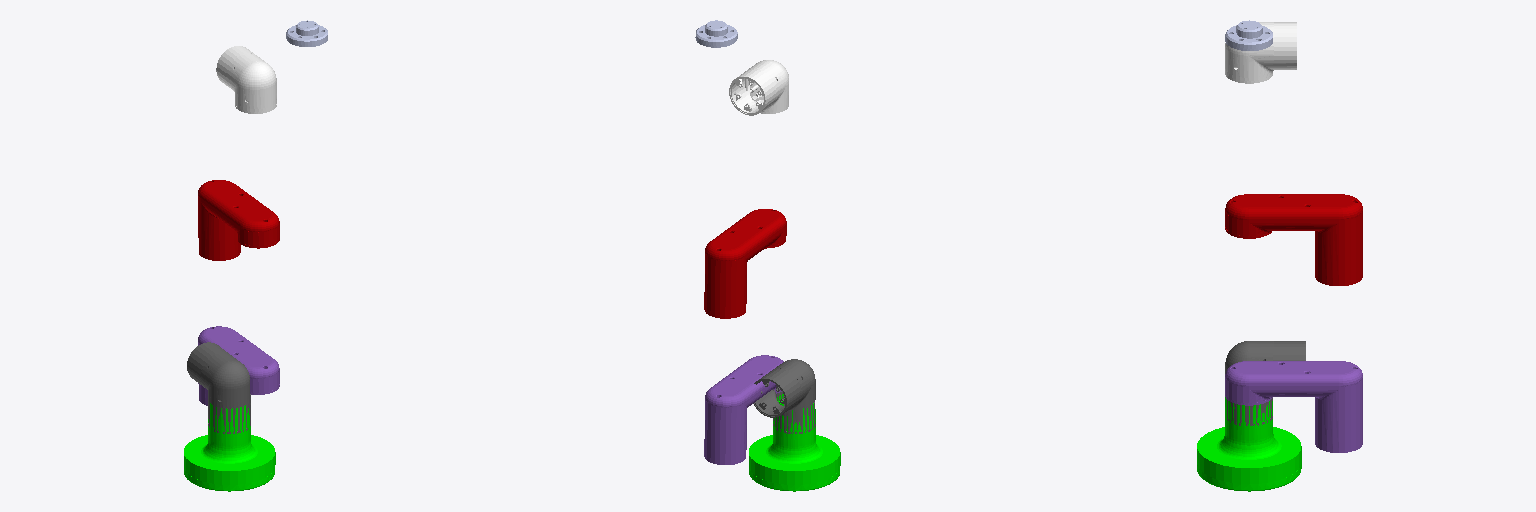
robot.urdf — robot_arm:
<?xml version="1.0" encoding="utf-8" ?>
<!-- This URDF was automatically created by SolidWorks to URDF Exporter! Originally created by Stephen Brawner (brawner@gmail.com) 
     Commit Version: 1.6.0-4-g7f85cfe  Build Version: 1.6.7995.38578
     For more information, please see http://wiki.ros.org/sw_urdf_exporter -->
<robot name="robot_arm">
    <link name="base_link">
        <inertial>
            <origin xyz="-0.000379135468760089 0.00044051065817062 0.025023985175857" rpy="0 0 0" />
            <mass value="0.195490498054091" />
            <inertia ixx="0.000197098942378015" ixy="1.73544380326031E-08" ixz="-1.8002259724736E-07" iyy="0.00020115978920217" iyz="-2.1699799937825E-06" izz="0.000316589137651227" />
        </inertial>
        <visual>
            <origin xyz="0 0 0" rpy="0 0 0" />
            <geometry>
                <mesh filename="package://robot_arm/meshes/base_link.STL" />
            </geometry>
            <material name="">
                <color rgba="0 1 0 1" />
            </material>
        </visual>
        <collision>
            <origin xyz="0 0 0" rpy="0 0 0" />
            <geometry>
                <mesh filename="package://robot_arm/meshes/base_link.STL" />
            </geometry>
        </collision>
    </link>
    <link name="Link_1">
        <inertial>
            <origin xyz="0.00458971266849917 -3.20046849174062E-05 0.0425574520928825" rpy="0 0 0" />
            <mass value="0.31284736542166" />
            <inertia ixx="0.000154646806877315" ixy="4.09236809944852E-09" ixz="-8.1373895526861E-06" iyy="0.000137640315457541" iyz="-1.10068804835806E-08" izz="0.000167440749331112" />
        </inertial>
        <visual>
            <origin xyz="0 0 0" rpy="0 0 0" />
            <geometry>
                <mesh filename="package://robot_arm/meshes/Link_1.STL" />
            </geometry>
            <material name="">
                <color rgba="0.43921568627451 0.43921568627451 0.43921568627451 1" />
            </material>
        </visual>
        <collision>
            <origin xyz="0 0 0" rpy="0 0 0" />
            <geometry>
                <mesh filename="package://robot_arm/meshes/Link_1.STL" />
            </geometry>
        </collision>
    </link>
    <joint name="joint_1" type="revolute">
        <origin xyz="0 0 0.063" rpy="0 0 0" />
        <parent link="base_link" />
        <child link="Link_1" />
        <axis xyz="0 0 -1" />
        <limit lower="-3.14" upper="3.14" effort="100" velocity="100" />
    </joint>
    <link name="Link_2">
        <inertial>
            <origin xyz="0.0437291888718274 -3.17241634150665E-05 0.121342621403178" rpy="0 0 0" />
            <mass value="0.587907106128444" />
            <inertia ixx="0.000432111071621861" ixy="3.77302870663473E-09" ixz="-5.21839747889797E-10" iyy="0.000377843479563513" iyz="-1.33160548801769E-08" izz="0.000325262257620724" />
        </inertial>
        <visual>
            <origin xyz="0 0 0" rpy="0 0 0" />
            <geometry>
                <mesh filename="package://robot_arm/meshes/Link_2.STL" />
            </geometry>
            <material name="">
                <color rgba="0.576470588235294 0.396078431372549 0.749019607843137 1" />
            </material>
        </visual>
        <collision>
            <origin xyz="0 0 0" rpy="0 0 0" />
            <geometry>
                <mesh filename="package://robot_arm/meshes/Link_2.STL" />
            </geometry>
        </collision>
    </link>
    <joint name="joint_2" type="revolute">
        <origin xyz="0.044 0 0.0465" rpy="0 0 0" />
        <parent link="Link_1" />
        <child link="Link_2" />
        <axis xyz="-1 0 0" />
        <limit lower="-3.14" upper="3.14" effort="100" velocity="100" />
    </joint>
    <link name="Link_3">
        <inertial>
            <origin xyz="-0.0342625302290131 -8.54393827617872E-07 0.130570556496791" rpy="0 0 0" />
            <mass value="0.368301492556341" />
            <inertia ixx="0.000284350975876608" ixy="1.99589868481762E-09" ixz="2.06902979779557E-06" iyy="0.000231576501898137" iyz="-3.41441474085351E-08" izz="0.00020347402203542" />
        </inertial>
        <visual>
            <origin xyz="0 0 0" rpy="0 0 0" />
            <geometry>
                <mesh filename="package://robot_arm/meshes/Link_3.STL" />
            </geometry>
            <material name="">
                <color rgba="0.749019607843137 0.0196078431372549 0.0352941176470588 1" />
            </material>
        </visual>
        <collision>
            <origin xyz="0 0 0" rpy="0 0 0" />
            <geometry>
                <mesh filename="package://robot_arm/meshes/Link_3.STL" />
            </geometry>
        </collision>
    </link>
    <joint name="joint_3" type="revolute">
        <origin xyz="0 0 0.211" rpy="0 0 0" />
        <parent link="Link_2" />
        <child link="Link_3" />
        <axis xyz="-1 0 0" />
        <limit lower="-3.14" upper="3.14" effort="100" velocity="100" />
    </joint>
    <link name="Link_4">
        <inertial>
            <origin xyz="0.0279097628469686 1.05492889386494E-06 0.000741999532285043" rpy="0 0 0" />
            <mass value="0.229125165376225" />
            <inertia ixx="0.000131116825625379" ixy="2.407566633754E-08" ixz="-5.24425161186352E-06" iyy="0.000108737830933017" iyz="-5.32181525503191E-10" izz="0.000136962636362692" />
        </inertial>
        <visual>
            <origin xyz="0 0 0" rpy="0 0 0" />
            <geometry>
                <mesh filename="package://robot_arm/meshes/Link_4.STL" />
            </geometry>
            <material name="">
                <color rgba="1 1 1 1" />
            </material>
        </visual>
        <collision>
            <origin xyz="0 0 0" rpy="0 0 0" />
            <geometry>
                <mesh filename="package://robot_arm/meshes/Link_4.STL" />
            </geometry>
        </collision>
    </link>
    <joint name="joint_4" type="revolute">
        <origin xyz="-0.0041003 0 0.1945" rpy="0 0 0" />
        <parent link="Link_3" />
        <child link="Link_4" />
        <axis xyz="1 0 0" />
        <limit lower="-3.14" upper="3.14" effort="100" velocity="100" />
    </joint>
    <link name="Link_5">
        <inertial>
            <origin xyz="0.000517900737938733 4.3776640414793E-05 0.032331216650774" rpy="0 0 0" />
            <mass value="0.199706758026391" />
            <inertia ixx="0.000126934835025011" ixy="-9.48676769820221E-09" ixz="-5.09905639766148E-06" iyy="9.85451693816129E-05" iyz="-1.08669959041328E-07" izz="0.000113330240712783" />
        </inertial>
        <visual>
            <origin xyz="0 0 0" rpy="0 0 0" />
            <geometry>
                <mesh filename="package://robot_arm/meshes/Link_5.STL" />
            </geometry>
            <material name="">
                <color rgba="0.00784313725490196 0.0117647058823529 1 1" />
            </material>
        </visual>
        <collision>
            <origin xyz="0 0 0" rpy="0 0 0" />
            <geometry>
                <mesh filename="package://robot_arm/meshes/Link_5.STL" />
            </geometry>
        </collision>
    </link>
    <joint name="joint_5" type="revolute">
        <origin xyz="0.0396 0 0.0379" rpy="0 0 0" />
        <parent link="Link_4" />
        <child link="Link_5" />
        <axis xyz="0 0 1" />
        <limit lower="-3.14" upper="3.14" effort="100" velocity="100" />
    </joint>
    <link name="Link_6">
        <inertial>
            <origin xyz="0.0093015 -8.3655E-07 0.001069" rpy="0 0 0" />
            <mass value="0.060816" />
            <inertia ixx="3.898E-05" ixy="3.5762E-10" ixz="-1.8499E-07" iyy="2.3062E-05" iyz="9.6148E-10" izz="2.3064E-05" />
        </inertial>
        <visual>
            <origin xyz="0 0 0" rpy="0 0 0" />
            <geometry>
                <mesh filename="package://robot_arm/meshes/Link_6.STL" />
            </geometry>
            <material name="">
                <color rgba="0.79216 0.81961 0.93333 1" />
            </material>
        </visual>
        <collision>
            <origin xyz="0 0 0" rpy="0 0 0" />
            <geometry>
                <mesh filename="package://robot_arm/meshes/Link_6.STL" />
            </geometry>
        </collision>
    </link>
    <joint name="joint_6" type="revolute">
        <origin xyz="0.0379 0 0.0396" rpy="0 0 0" />
        <parent link="Link_5" />
        <child link="Link_6" />
        <axis xyz="1 0 0" />
        <limit lower="-3.14" upper="3.14" effort="100" velocity="100" />
    </joint>
    <transmission name="trans_joint_1">
        <type>transmission_interface/SimpleTransmission</type>
        <joint name="joint_1">
            <hardwareInterface>hardware_interface/PositionJointInterface</hardwareInterface>
        </joint>
        <actuator name="joint_1_motor">
            <hardwareInterface>hardware_interface/PositionJointInterface</hardwareInterface>
            <mechanicalReduction>1</mechanicalReduction>
        </actuator>
    </transmission>
    <transmission name="trans_joint_2">
        <type>transmission_interface/SimpleTransmission</type>
        <joint name="joint_2">
            <hardwareInterface>hardware_interface/PositionJointInterface</hardwareInterface>
        </joint>
        <actuator name="joint_2_motor">
            <hardwareInterface>hardware_interface/PositionJointInterface</hardwareInterface>
            <mechanicalReduction>1</mechanicalReduction>
        </actuator>
    </transmission>
    <transmission name="trans_joint_3">
        <type>transmission_interface/SimpleTransmission</type>
        <joint name="joint_3">
            <hardwareInterface>hardware_interface/PositionJointInterface</hardwareInterface>
        </joint>
        <actuator name="joint_3_motor">
            <hardwareInterface>hardware_interface/PositionJointInterface</hardwareInterface>
            <mechanicalReduction>1</mechanicalReduction>
        </actuator>
    </transmission>
    <transmission name="trans_joint_4">
        <type>transmission_interface/SimpleTransmission</type>
        <joint name="joint_4">
            <hardwareInterface>hardware_interface/PositionJointInterface</hardwareInterface>
        </joint>
        <actuator name="joint_4_motor">
            <hardwareInterface>hardware_interface/PositionJointInterface</hardwareInterface>
            <mechanicalReduction>1</mechanicalReduction>
        </actuator>
    </transmission>
    <transmission name="trans_joint_5">
        <type>transmission_interface/SimpleTransmission</type>
        <joint name="joint_5">
            <hardwareInterface>hardware_interface/PositionJointInterface</hardwareInterface>
        </joint>
        <actuator name="joint_5_motor">
            <hardwareInterface>hardware_interface/PositionJointInterface</hardwareInterface>
            <mechanicalReduction>1</mechanicalReduction>
        </actuator>
    </transmission>
    <transmission name="trans_joint_6">
        <type>transmission_interface/SimpleTransmission</type>
        <joint name="joint_6">
            <hardwareInterface>hardware_interface/PositionJointInterface</hardwareInterface>
        </joint>
        <actuator name="joint_6_motor">
            <hardwareInterface>hardware_interface/PositionJointInterface</hardwareInterface>
            <mechanicalReduction>1</mechanicalReduction>
        </actuator>
    </transmission>
    <gazebo>
        <plugin name="gazebo_ros_control">
            <robotNamespace>/</robotNamespace>
        </plugin>
    </gazebo>
</robot>

--- Facts derived from the render (not from the file) ---
3 views of the same robot in one strip: view 1: azimuth 30°, elevation 25°; view 2: azimuth 150°, elevation 25°; view 3: azimuth 270°, elevation 25° (orthographic).
Model robot_arm with 7 links and 6 joints (6 revolute), rooted at base_link, posed every joint at zero.
Visible links, largest first — view 1: base_link, Link_3, Link_1, Link_4, Link_2, Link_6; view 2: Link_3, base_link, Link_2, Link_1, Link_4, Link_6; view 3: Link_3, Link_2, base_link, Link_4, Link_1, Link_6.
Boxes of the visible links, <box> form: base_link: <box>184,403,275,491</box>; Link_3: <box>198,180,279,260</box>; Link_1: <box>187,342,250,433</box>; Link_4: <box>216,46,276,113</box>; Link_2: <box>198,326,279,405</box>; Link_6: <box>286,20,327,46</box>; Link_3: <box>704,209,786,318</box>; base_link: <box>749,394,840,491</box>; Link_2: <box>704,355,783,464</box>; Link_1: <box>753,359,815,433</box>; Link_4: <box>729,60,788,115</box>; Link_6: <box>695,20,737,47</box>; Link_3: <box>1225,194,1362,285</box>; Link_2: <box>1225,361,1362,452</box>; base_link: <box>1197,397,1301,491</box>; Link_4: <box>1225,22,1296,83</box>; Link_1: <box>1225,341,1305,425</box>; Link_6: <box>1225,20,1272,50</box>.
Size in the robot's own frame: 0.2049 by 0.1905 by 0.6177 metres.
Meshes: 7 distinct files referenced, 6 mesh visuals loaded (6 binary STL); not drawn: 1 (reference not matched to a file when rendering).
